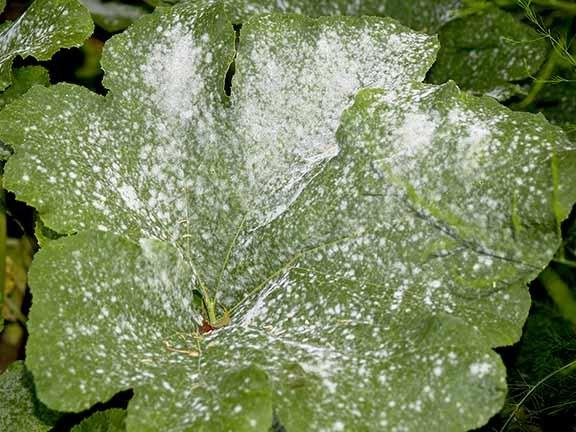Squash Powdery mildew leaf: (21, 1, 545, 423)
